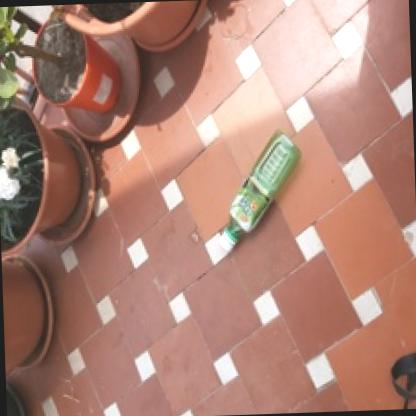plastic_bottles: (198, 130, 310, 272)
